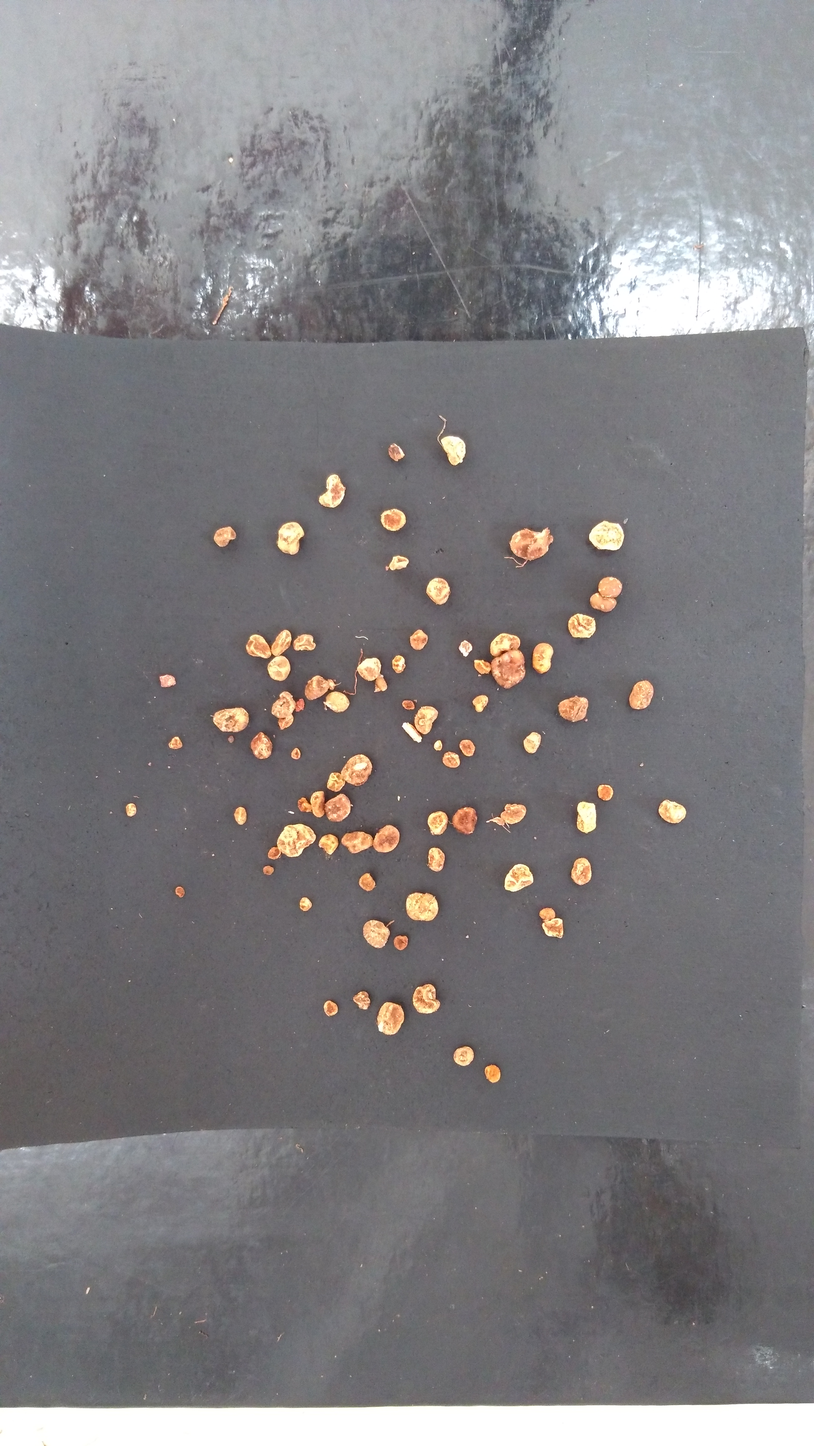nodule: (501, 524, 559, 565), (584, 516, 631, 560), (272, 818, 319, 861), (489, 648, 531, 695), (626, 675, 664, 721), (400, 885, 443, 925), (407, 975, 446, 1019), (204, 703, 252, 736), (273, 519, 310, 559), (566, 607, 603, 647), (374, 998, 408, 1041), (208, 518, 247, 555), (563, 852, 597, 893), (340, 752, 377, 788), (316, 472, 348, 513), (654, 795, 691, 830), (269, 689, 296, 736), (554, 694, 591, 728), (352, 649, 387, 684), (356, 917, 391, 952), (501, 861, 536, 895), (371, 822, 405, 857), (449, 803, 482, 839), (320, 792, 357, 824), (439, 432, 472, 467), (528, 638, 558, 676), (337, 828, 374, 858), (574, 798, 601, 839), (376, 505, 410, 537), (595, 571, 629, 603), (487, 629, 524, 658), (301, 673, 338, 702), (241, 630, 273, 663), (424, 803, 451, 842), (421, 577, 456, 607), (445, 1039, 477, 1070), (247, 731, 280, 761), (350, 866, 383, 896), (496, 798, 531, 825), (314, 827, 343, 859), (589, 591, 622, 619), (269, 627, 296, 659), (381, 553, 418, 576), (413, 704, 439, 736), (265, 654, 293, 683), (315, 992, 344, 1020), (423, 845, 449, 875), (322, 691, 354, 715), (480, 1063, 509, 1089), (519, 730, 549, 755), (291, 632, 322, 656), (350, 983, 373, 1015), (156, 669, 185, 694), (407, 626, 434, 652), (116, 798, 142, 825), (592, 780, 620, 804), (532, 900, 561, 923), (542, 915, 567, 941), (386, 932, 415, 953), (325, 768, 348, 794), (233, 801, 250, 836), (294, 893, 319, 916), (309, 788, 327, 819), (385, 440, 408, 464), (470, 693, 494, 715), (390, 652, 409, 679), (164, 732, 190, 751), (265, 842, 287, 864), (372, 672, 393, 695), (442, 750, 463, 771), (457, 736, 477, 758), (169, 881, 189, 903), (470, 656, 492, 675), (458, 636, 474, 659), (258, 863, 279, 879), (296, 794, 312, 814), (288, 744, 304, 760), (293, 698, 308, 714), (431, 736, 445, 753), (400, 696, 415, 710), (226, 735, 236, 744)
